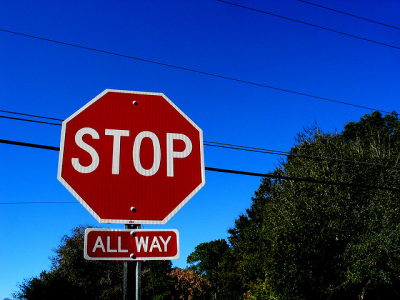stop: (68, 100, 198, 206)
